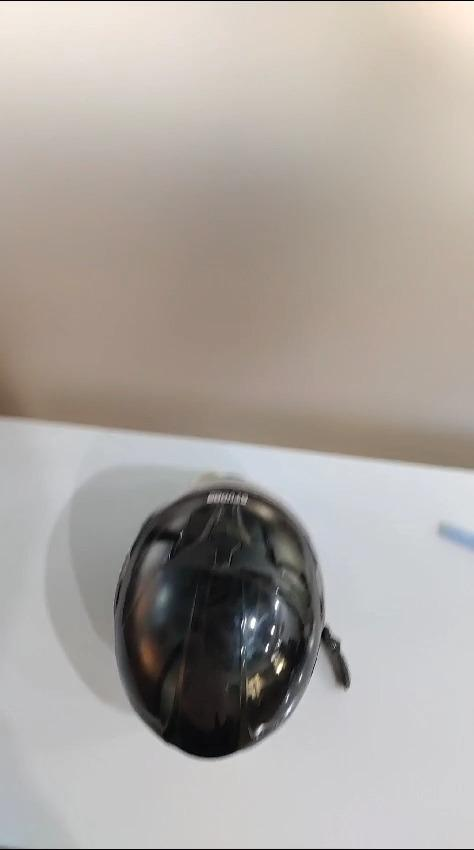Helmet: (102, 480, 322, 764)
